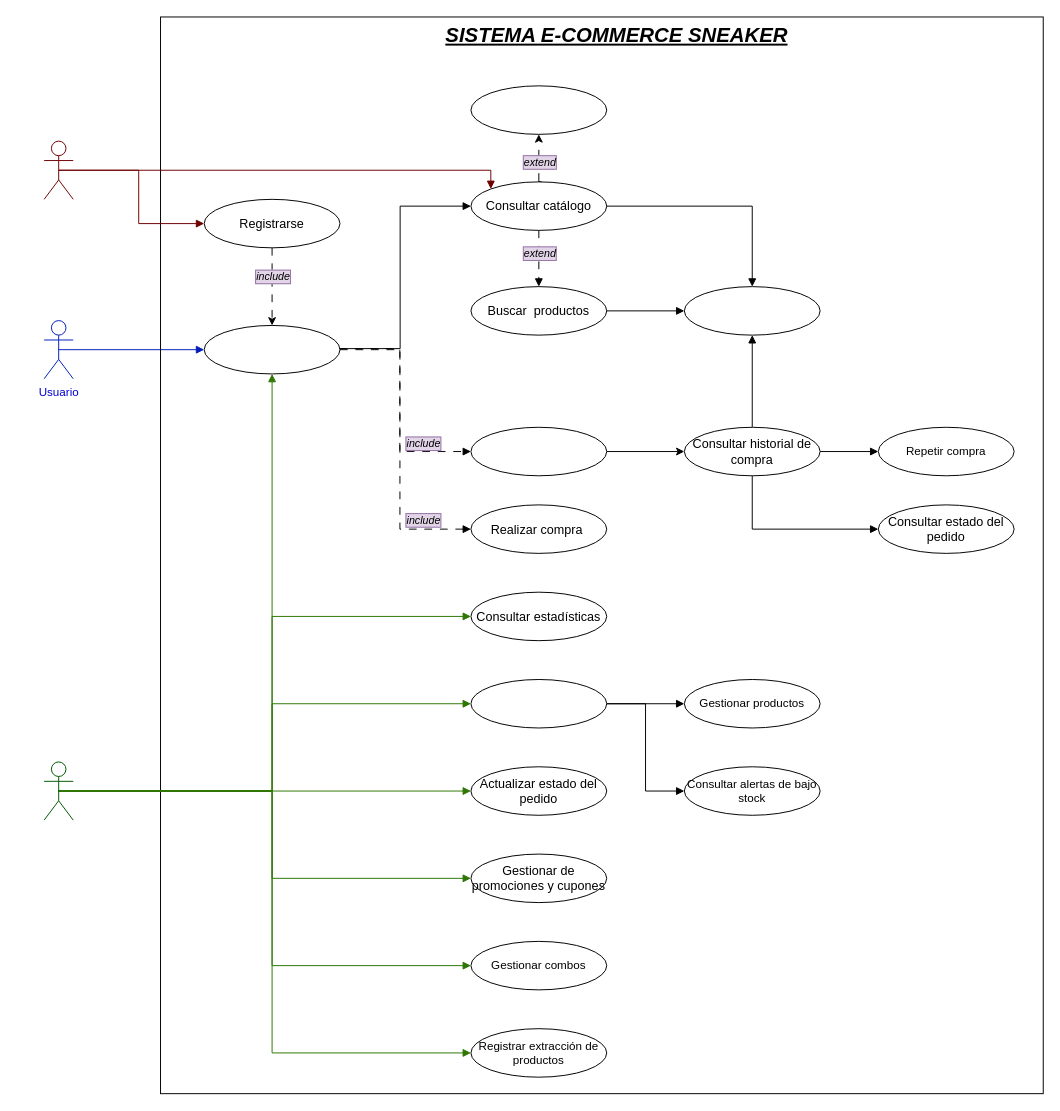
This 1060x1111 diagram has some shape labels left out. Here are the shapes that lost their labels. From the top down, the centre of each, then its label:
At point (538, 109): "Utilizar asistente".
At point (58, 169): "Usuario invitado".
At point (751, 310): "Consultar detalles de producto".
At point (271, 349): "Iniciar sesión".
At point (538, 451): "Gestionar perfil".
At point (538, 703): "Consultar información del stock".
At point (58, 790): "Administrador".
